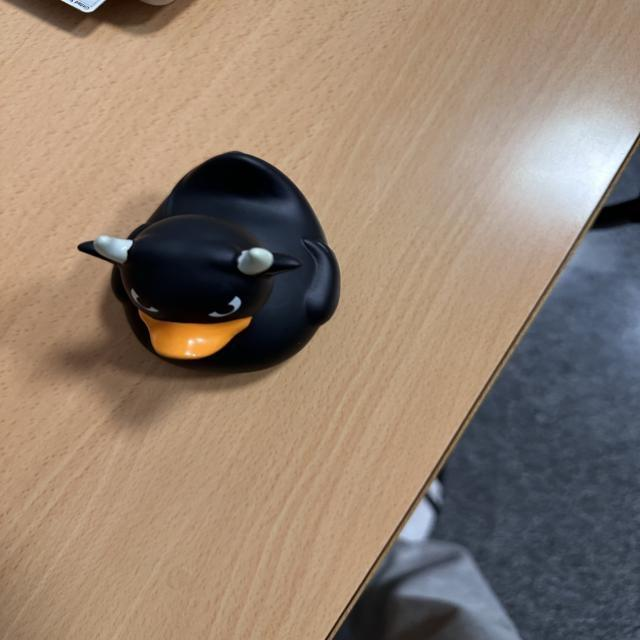rubber-duck: (78, 151, 338, 369)
